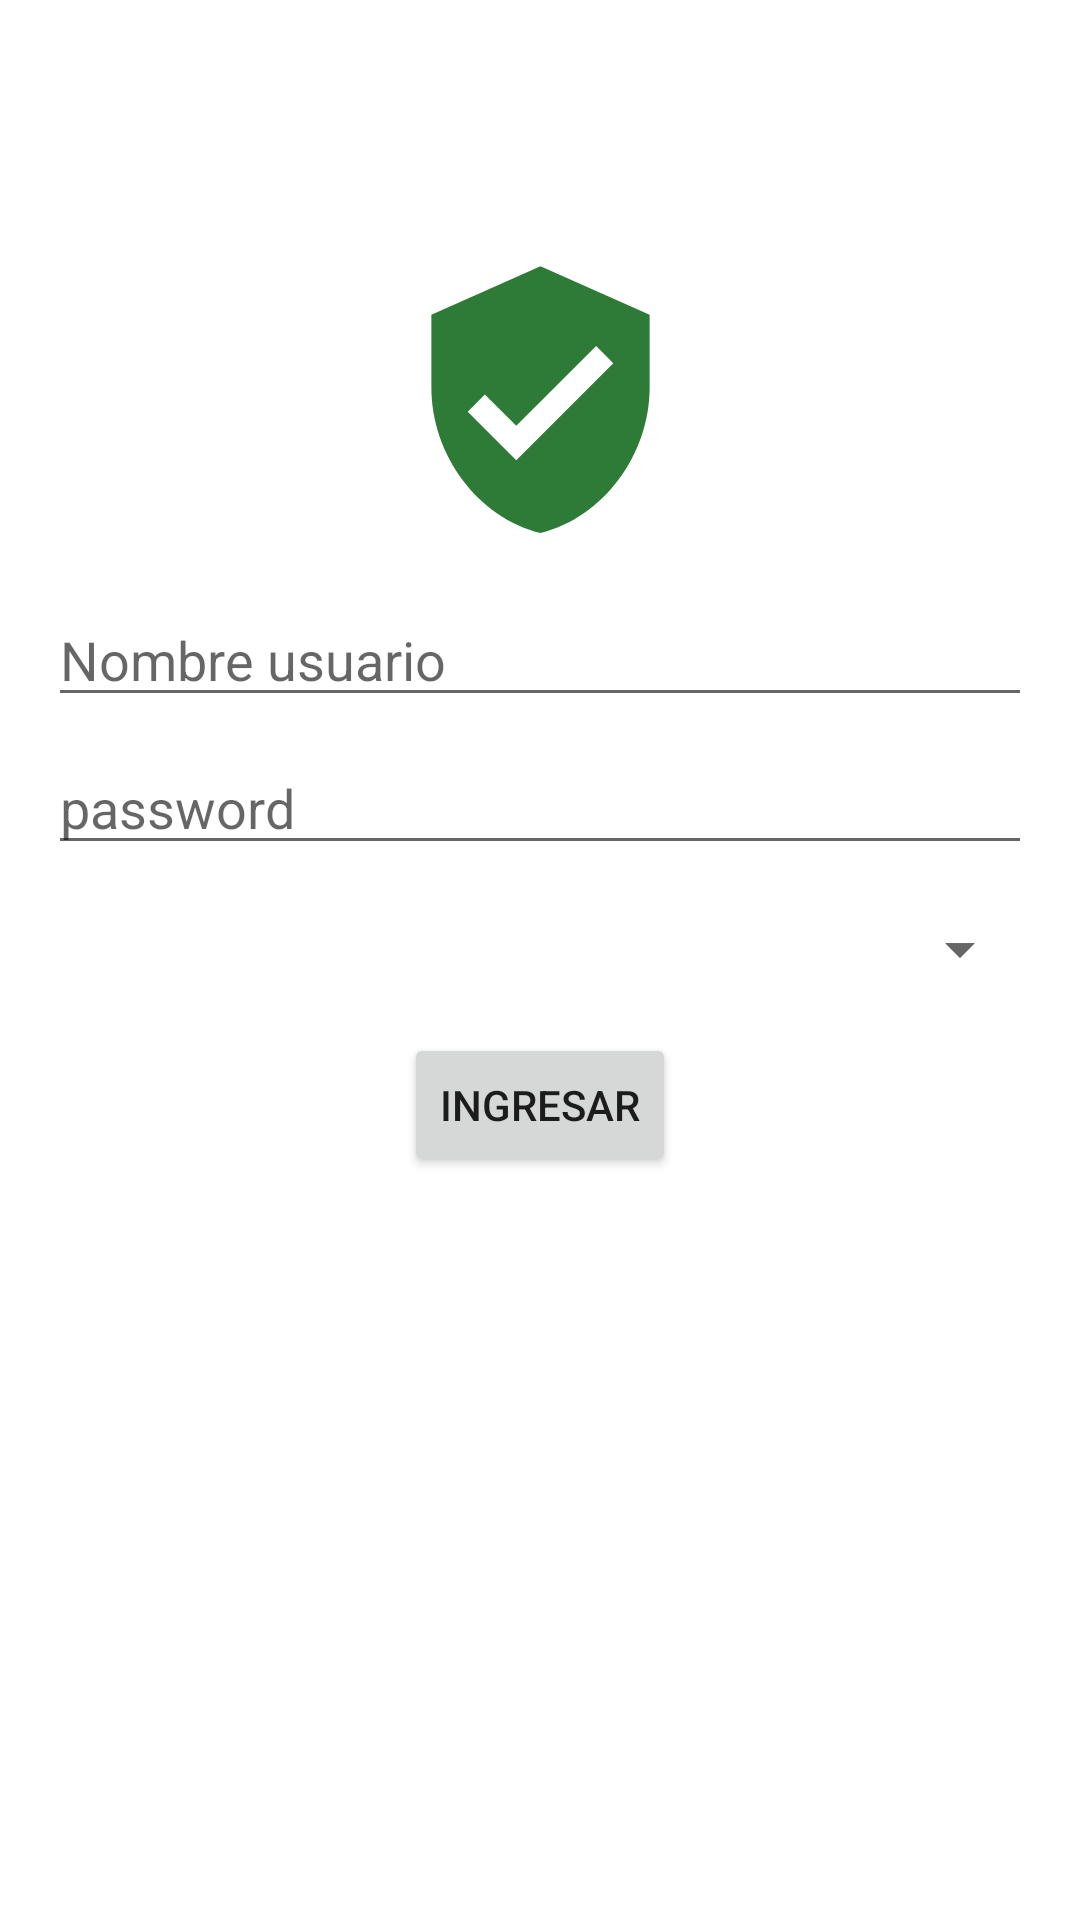

Screen size 1080x1920. Icon name, then its box in pixels as (x1, y1, x2, y2):
verified user: (431, 266, 650, 533)
